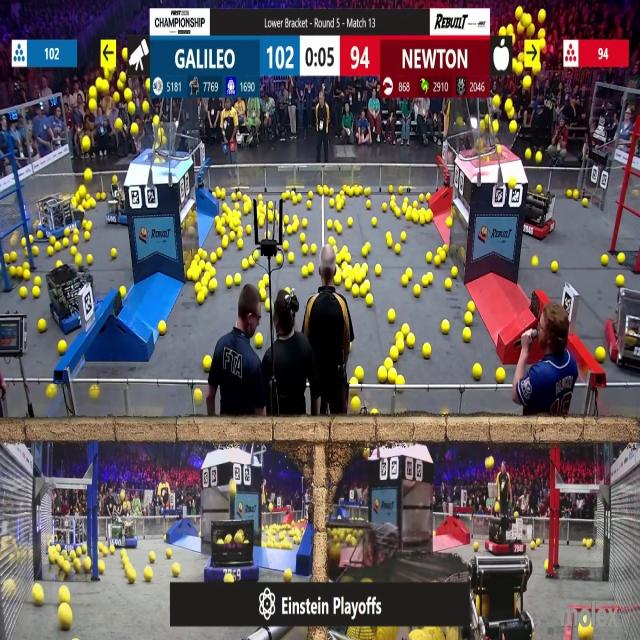ball_airborne: (514, 61, 524, 75), (82, 137, 90, 152), (228, 484, 236, 498), (524, 75, 532, 88), (125, 90, 133, 103), (532, 61, 540, 74), (510, 120, 518, 132), (504, 100, 512, 112), (486, 457, 494, 469), (522, 12, 530, 24), (101, 82, 109, 94), (538, 9, 545, 22), (86, 170, 93, 183), (90, 88, 98, 99), (516, 7, 524, 18), (524, 148, 532, 159), (509, 109, 517, 120), (91, 100, 98, 112), (493, 96, 500, 108), (492, 119, 499, 131), (121, 47, 128, 59), (522, 54, 530, 64), (142, 102, 149, 113), (132, 124, 139, 135), (115, 118, 122, 129), (129, 103, 136, 114), (535, 150, 541, 162), (528, 26, 534, 38), (518, 24, 525, 34), (507, 177, 514, 187), (114, 93, 120, 104), (152, 115, 158, 126), (538, 29, 545, 38), (97, 78, 103, 88), (496, 146, 502, 156), (506, 25, 512, 35), (104, 70, 110, 80), (481, 119, 486, 130), (119, 72, 125, 81), (119, 80, 125, 89), (495, 502, 500, 512), (145, 79, 150, 89), (163, 136, 168, 144), (160, 129, 165, 137)
ball_ground: (59, 605, 72, 629), (34, 587, 44, 606), (60, 588, 70, 604), (472, 362, 481, 378), (577, 626, 587, 640), (128, 567, 136, 583), (496, 367, 505, 381), (422, 344, 431, 358), (379, 366, 388, 380), (596, 348, 605, 362), (59, 342, 68, 355), (407, 336, 416, 349), (442, 320, 450, 334), (254, 334, 262, 348), (464, 312, 472, 326), (144, 567, 152, 581), (204, 356, 212, 370), (46, 384, 54, 398), (82, 558, 90, 572), (38, 319, 46, 332), (352, 396, 360, 409), (358, 283, 366, 296), (388, 370, 396, 383), (390, 347, 398, 360), (98, 560, 105, 574), (618, 275, 626, 287), (462, 328, 470, 340), (364, 294, 372, 306), (18, 286, 26, 298), (208, 280, 216, 292), (192, 389, 200, 401), (355, 366, 363, 378), (352, 284, 360, 296), (284, 569, 292, 581), (354, 272, 362, 284), (396, 342, 404, 354), (74, 560, 82, 572), (160, 321, 167, 334), (388, 310, 395, 323), (173, 563, 180, 576), (276, 253, 284, 264), (414, 285, 422, 296), (335, 275, 343, 286), (225, 276, 232, 288), (452, 267, 459, 279), (242, 260, 249, 272), (259, 288, 266, 300), (264, 276, 271, 288), (396, 376, 404, 386), (224, 573, 232, 583), (75, 254, 82, 265), (235, 274, 242, 285), (198, 292, 205, 303), (446, 279, 453, 290), (302, 268, 309, 279), (191, 271, 198, 282), (425, 211, 432, 222), (204, 272, 211, 283), (221, 237, 227, 249), (186, 270, 192, 282), (395, 333, 403, 342), (86, 220, 94, 229), (571, 189, 579, 198), (552, 263, 559, 273), (467, 302, 474, 312), (426, 252, 433, 262), (361, 246, 368, 256), (34, 277, 41, 287), (394, 208, 401, 218), (345, 280, 352, 290), (8, 267, 15, 277), (385, 358, 392, 368), (199, 250, 206, 260), (343, 270, 350, 280), (206, 264, 213, 274), (602, 254, 608, 265), (532, 255, 538, 266), (288, 252, 294, 263), (283, 241, 289, 252), (376, 266, 382, 277), (303, 244, 309, 255), (211, 252, 217, 263), (149, 552, 155, 563), (434, 254, 440, 265), (441, 252, 447, 263), (24, 271, 31, 280), (122, 557, 129, 566), (620, 253, 626, 263), (88, 254, 94, 264), (348, 217, 354, 227), (34, 287, 40, 297), (83, 232, 89, 242), (119, 286, 125, 296), (110, 248, 116, 258), (394, 244, 400, 254), (447, 217, 453, 227), (299, 234, 305, 244), (311, 244, 317, 254), (402, 324, 408, 334), (427, 274, 433, 284), (401, 276, 407, 286), (194, 282, 200, 292), (309, 265, 315, 275), (64, 238, 70, 248), (244, 205, 250, 215), (337, 223, 343, 233), (422, 277, 428, 287), (253, 250, 259, 260), (246, 224, 252, 234), (238, 240, 244, 250), (248, 256, 254, 266), (4, 253, 10, 263), (566, 188, 572, 198), (269, 212, 275, 222), (231, 232, 237, 242), (400, 205, 406, 215), (210, 270, 217, 278), (37, 232, 44, 240), (343, 244, 350, 252), (403, 212, 410, 220), (266, 303, 272, 312), (166, 550, 172, 559), (583, 199, 589, 208), (346, 254, 352, 263), (337, 254, 343, 263), (303, 218, 309, 227), (307, 201, 313, 210), (420, 215, 426, 224), (326, 219, 332, 228), (286, 224, 292, 233), (258, 280, 264, 289), (365, 201, 371, 210), (413, 213, 419, 222), (236, 203, 242, 212), (216, 224, 222, 233), (48, 237, 54, 246), (23, 238, 29, 247), (337, 203, 343, 212), (200, 263, 206, 272), (402, 198, 408, 207), (28, 237, 34, 246), (400, 233, 405, 243), (33, 247, 38, 257), (56, 242, 61, 252), (408, 270, 413, 280), (82, 542, 87, 552), (296, 192, 301, 202), (351, 378, 358, 385), (354, 265, 361, 272), (258, 218, 264, 226), (110, 545, 116, 553), (47, 247, 53, 255), (328, 238, 334, 246), (10, 252, 16, 260), (269, 202, 275, 210), (282, 191, 288, 199), (388, 196, 394, 204), (221, 204, 227, 212), (292, 215, 298, 223), (443, 244, 449, 252), (371, 217, 376, 226), (388, 239, 393, 248), (71, 246, 76, 255), (284, 215, 289, 224), (217, 248, 222, 257), (73, 236, 78, 245), (92, 200, 97, 209), (103, 545, 108, 554), (276, 213, 281, 222), (543, 561, 547, 572), (361, 265, 367, 272), (413, 202, 419, 209), (388, 185, 394, 192), (331, 245, 337, 252), (269, 503, 275, 510), (420, 193, 425, 201), (383, 204, 388, 212), (99, 542, 104, 550), (398, 186, 403, 194), (292, 223, 297, 231), (443, 412, 449, 418), (371, 410, 376, 417), (309, 191, 314, 198), (215, 216, 220, 223), (535, 538, 540, 545), (257, 193, 262, 200), (243, 193, 248, 200), (473, 542, 477, 550), (329, 200, 333, 208), (531, 540, 535, 548), (426, 192, 430, 200), (121, 549, 125, 557), (25, 265, 30, 271), (58, 262, 62, 269), (164, 534, 168, 541), (233, 192, 237, 199), (269, 233, 273, 240), (25, 250, 29, 256), (97, 192, 101, 198), (200, 534, 203, 539)
goal: (465, 124, 520, 160), (126, 130, 188, 160)
robot_blue: (47, 264, 98, 332), (210, 520, 259, 581), (40, 190, 85, 238), (105, 181, 129, 227), (108, 518, 140, 548)
robot_red: (484, 508, 529, 556), (615, 288, 640, 372), (522, 186, 555, 239)
